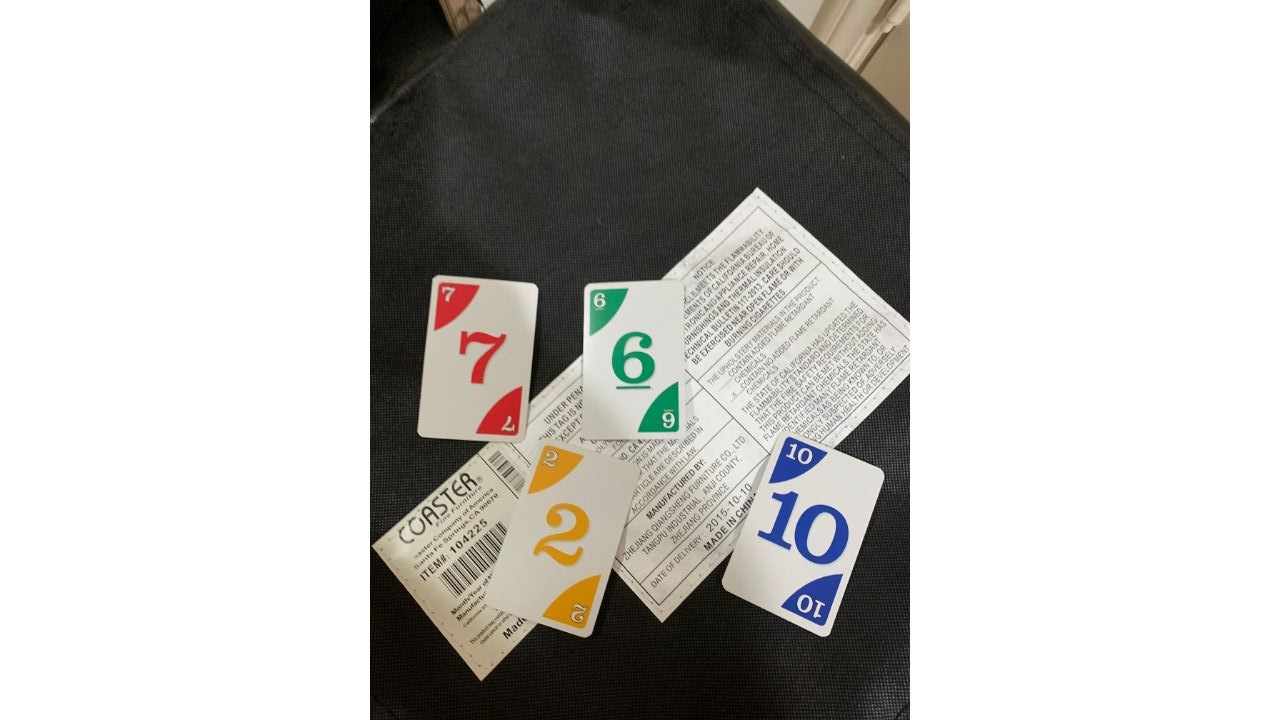seven: (413, 267, 545, 447)
six: (578, 277, 695, 446)
ten: (718, 429, 887, 644)
two: (485, 441, 644, 640)
